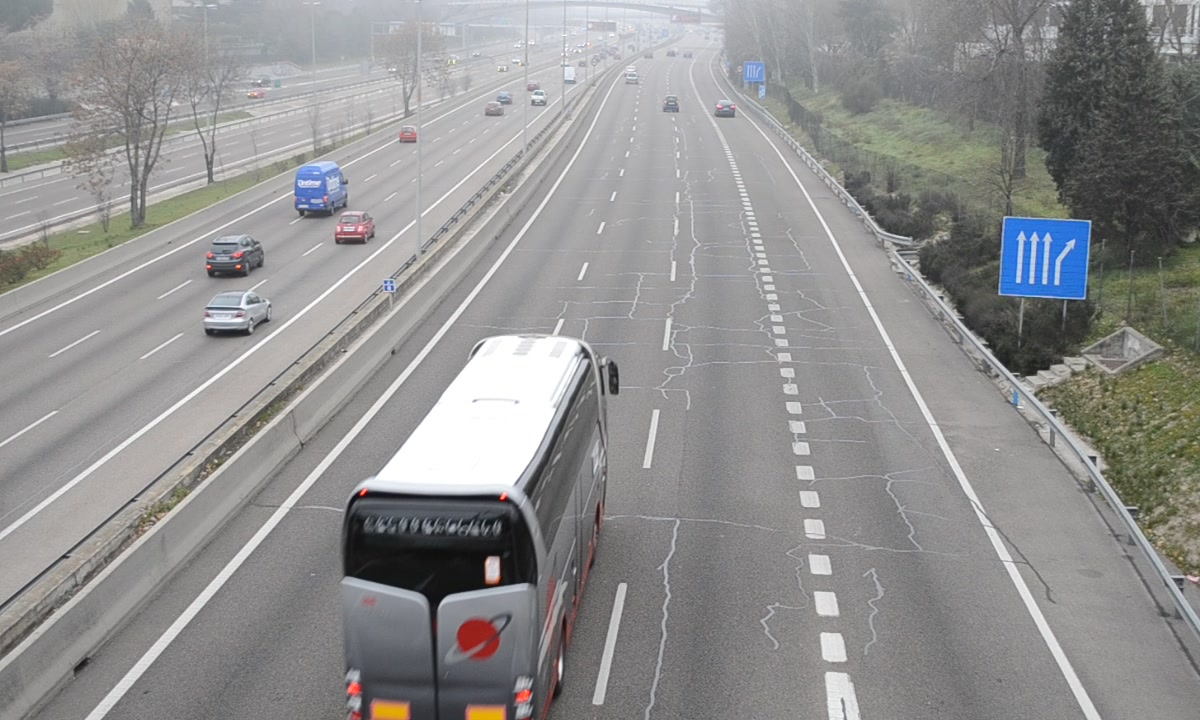bus: (341, 335, 611, 720)
car: (714, 100, 737, 119), (662, 94, 681, 115)
